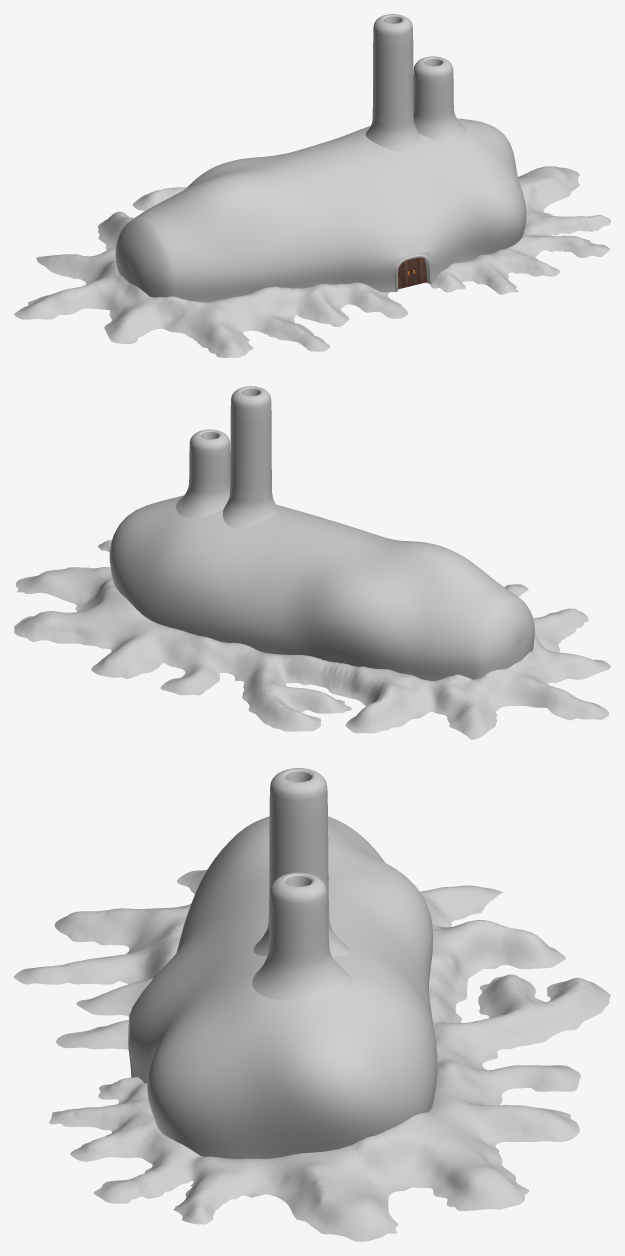
Rendered from Mitochondria.fbx.
3 views of the same model, one above another, from view 1: azimuth 30°, elevation 25°; view 2: azimuth 150°, elevation 25°; view 3: azimuth 270°, elevation 25° (orthographic). The views are drawn at different scales.
Parts seen in each view (by area): view 1: Mito_LOD0; view 2: Mito_LOD0; view 3: Mito_LOD0.
Part boxes in pixels (x1=…): Mito_LOD0: x1=14, y1=14, x2=610, y2=357; Mito_LOD0: x1=14, y1=386, x2=610, y2=739; Mito_LOD0: x1=14, y1=768, x2=610, y2=1241.
Size of what is drawn, in the model's own units: 7129 by 2633 by 4453.
